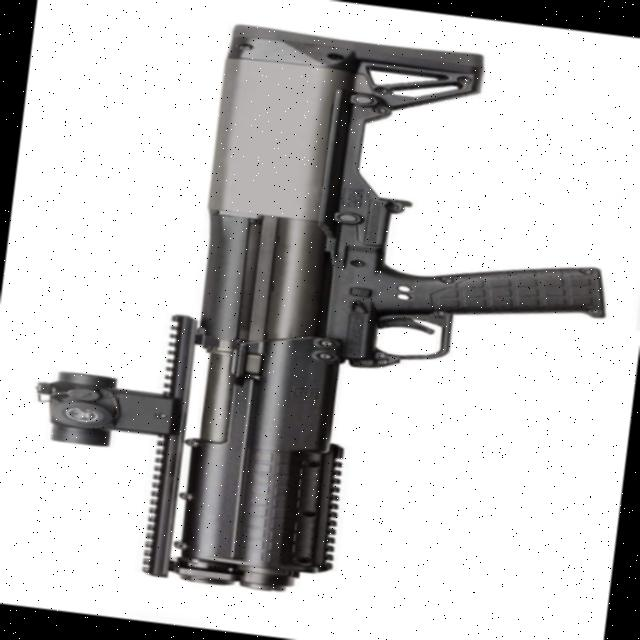Shotgun: (11, 0, 622, 629)
